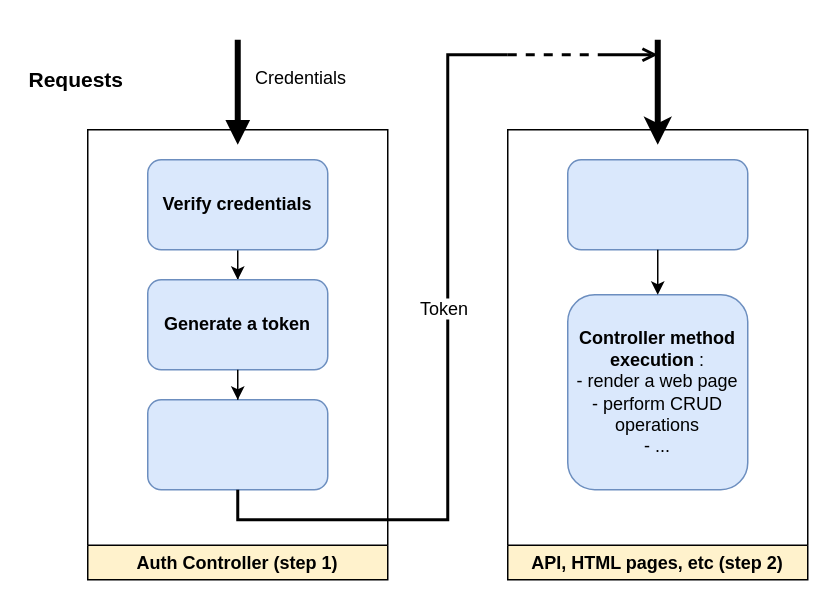
Image size: 834x606. Some labels were removed from this diagram. Each missing label, with the centre of its shape:
"Send back the token" goes at point 237,444.
"Verify the token and retrieve the user" goes at point 657,204.
